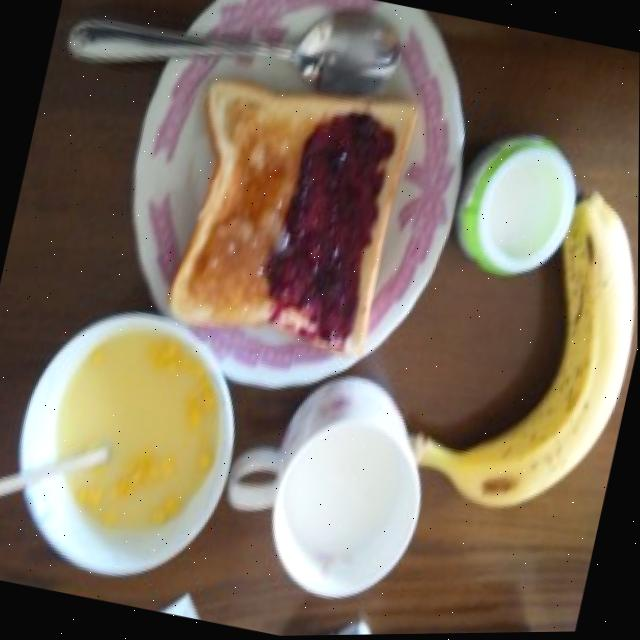汤锅炖物: (0, 280, 264, 591)
面包点心: (153, 59, 433, 364)
